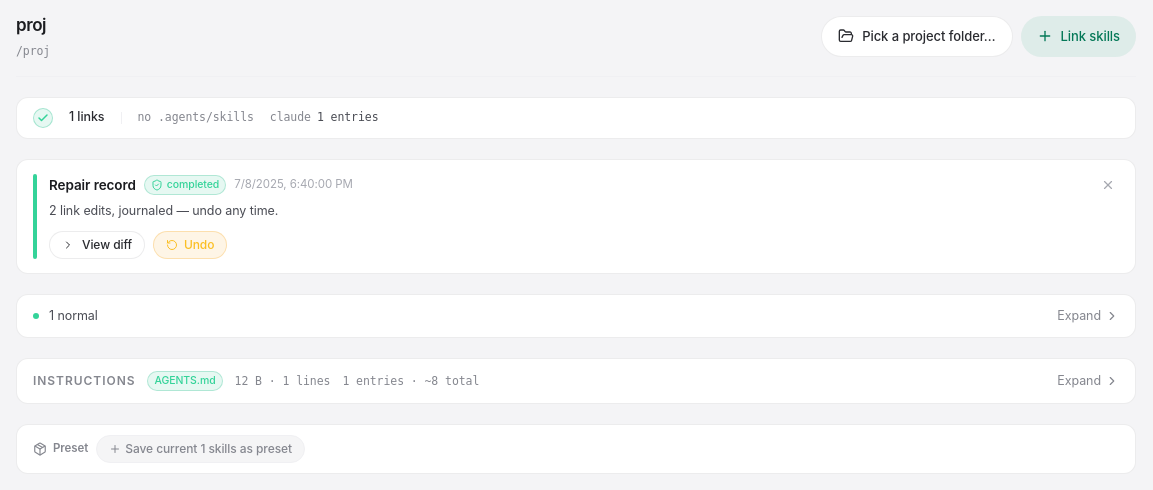
Test: ChainProjects › undoes a journaled repair and reloads so the state falls back
This screenshot has width=1153, height=490.
Click the button with test id "record-undo": (190, 244) [153,230,227,258]
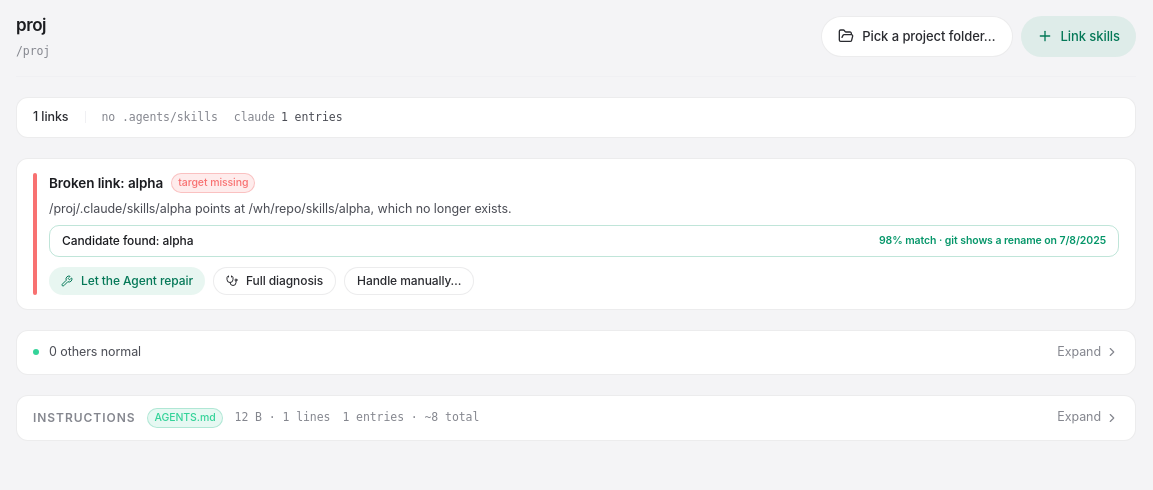
Check: the element with test id "workbench-attention" is shown, box [16,158,1136,310]
Check: the element with test id "repair-record" is gone
